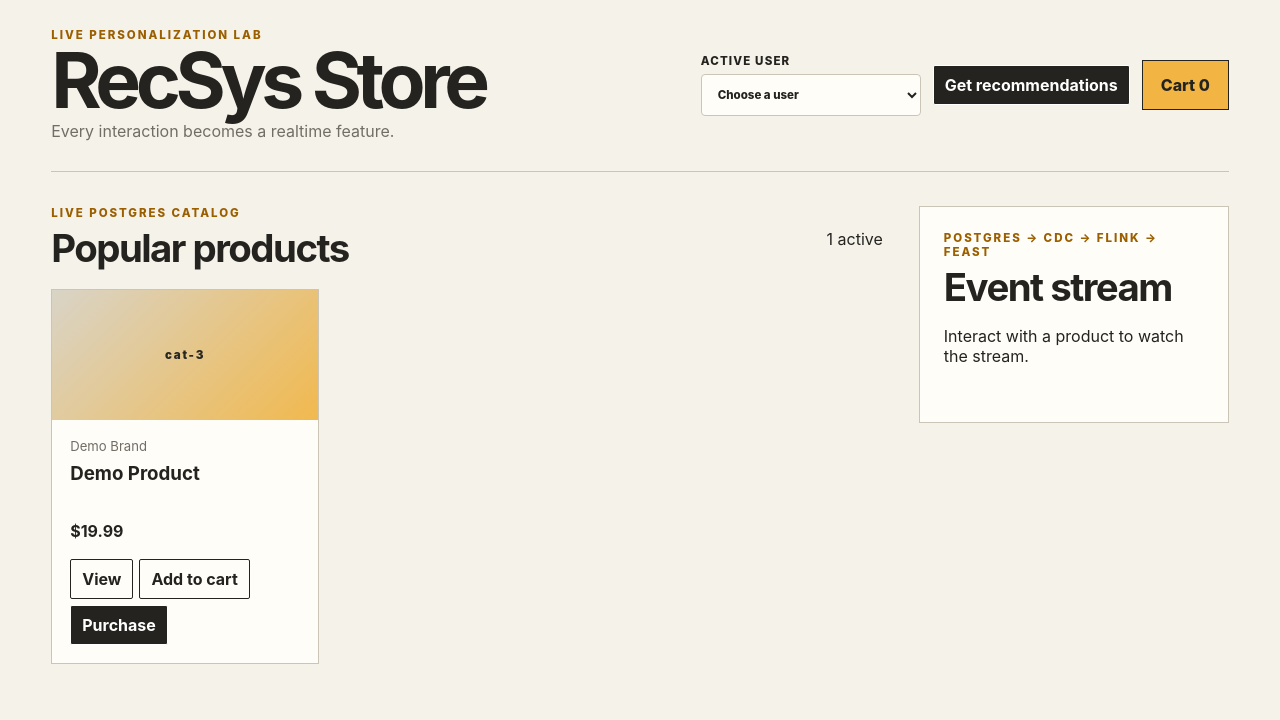
Test case: sends a cart event and updates cart state
Expected: the heading "Demo Product" is shown, [70,462,200,485]
Select "User 1 · vip" in the dropdown labelled "Active user" at x=811, y=94, box [701,74,921,116]
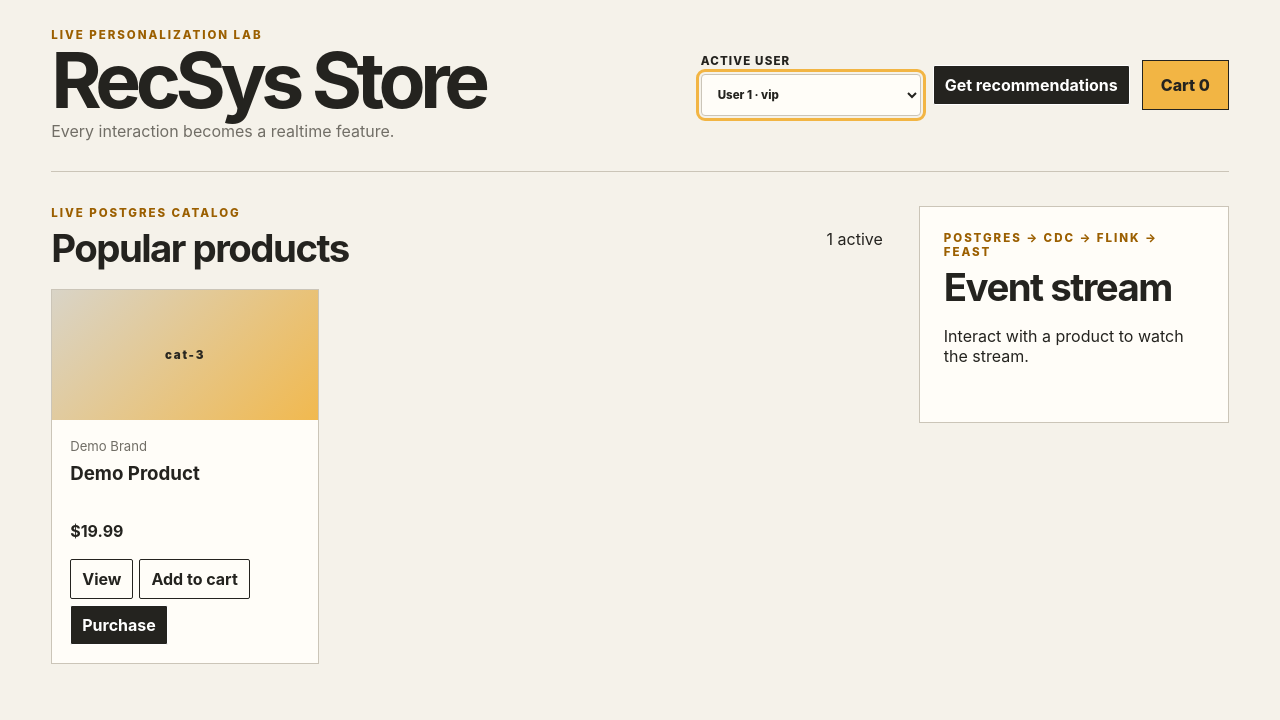
Click the button "Add to cart".
click(195, 579)  # box [139,559,250,599]
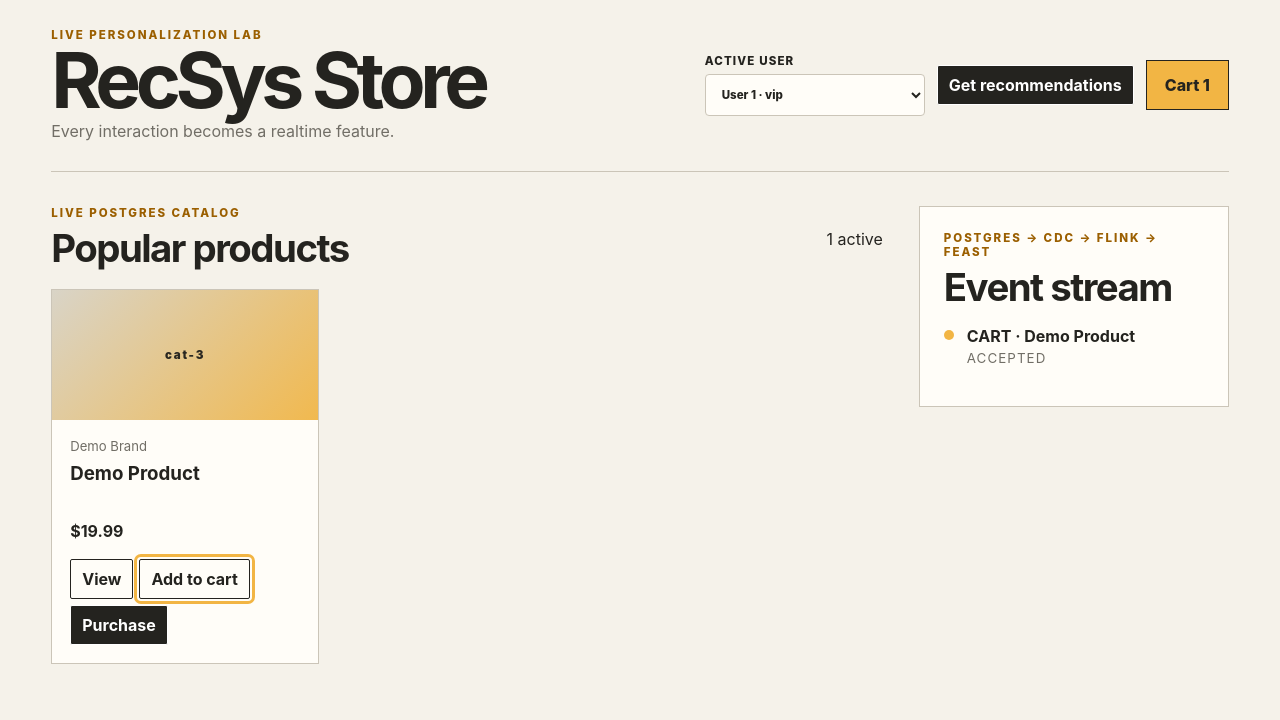
Expected: the text "Cart 1" is shown, [1146,60,1229,110]
Expected: the text "CART · Demo Product" is shown, [967,326,1135,346]
